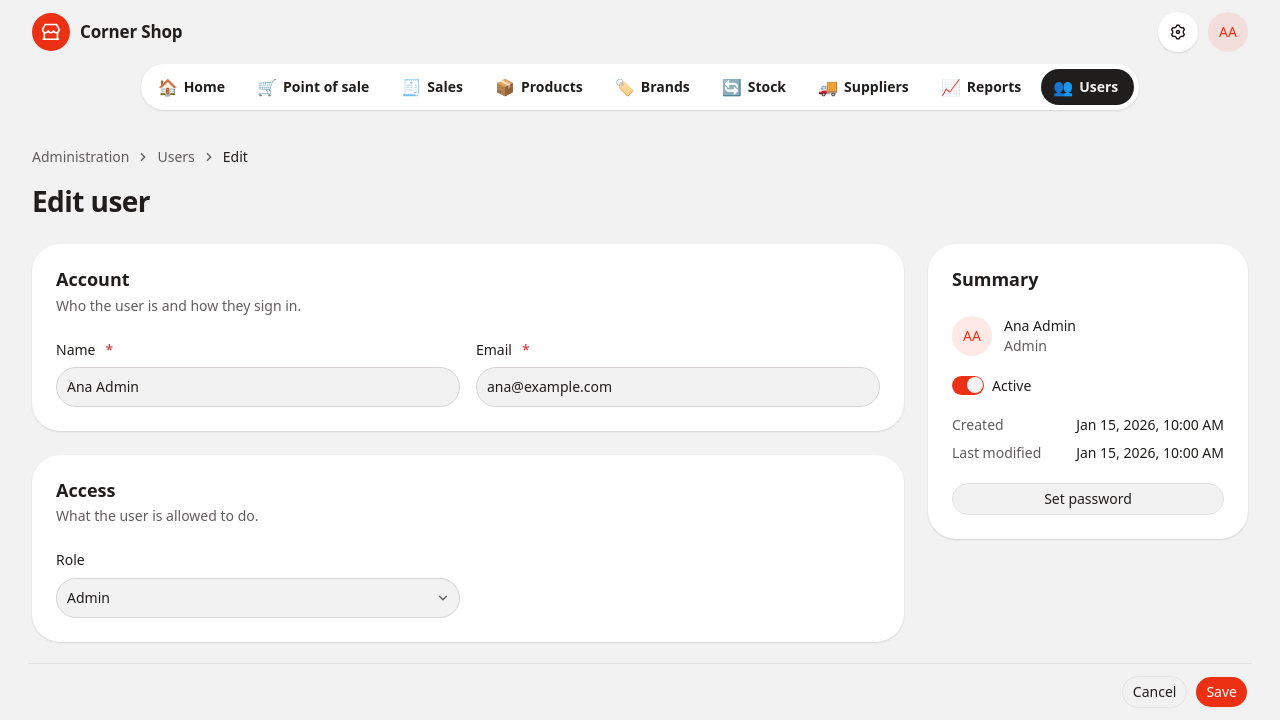
Test: UserFormPage › sets a new password from the dialog
Expected: the field labelled "Name" holds "Ana Admin", top-left (56, 367), bottom-right (460, 407)
Click the button "Set password": point(1088, 499) top-left (952, 483), bottom-right (1224, 515)
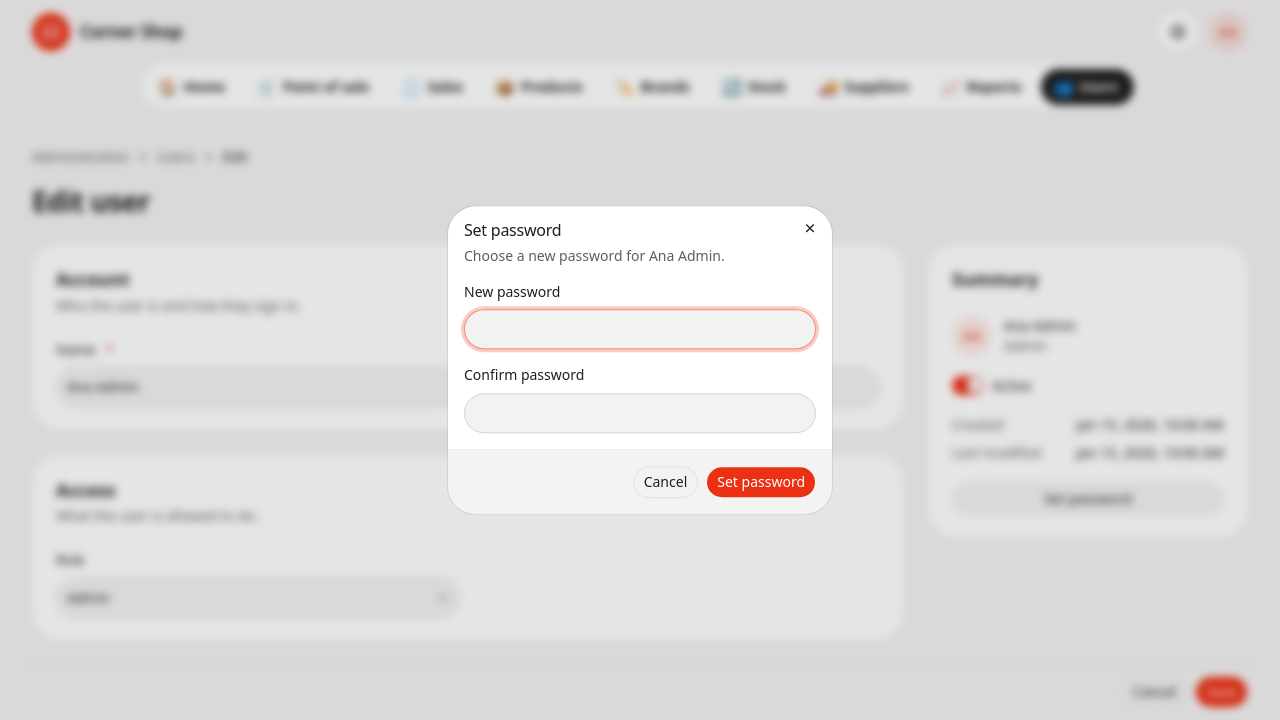
In the password field labelled "New password": point(640, 330) top-left (464, 310), bottom-right (816, 350), type "brand-new-1"
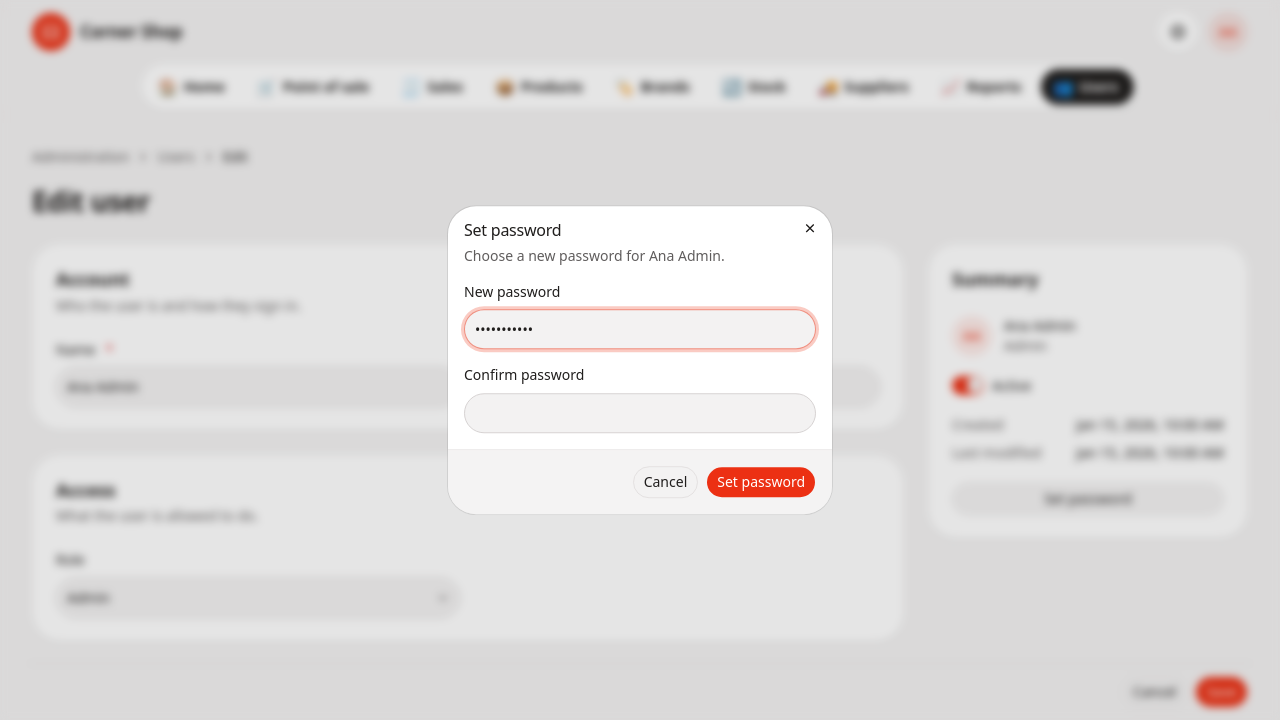
In the password field labelled "Confirm password": point(640, 413) top-left (464, 393), bottom-right (816, 433), type "brand-new-1"
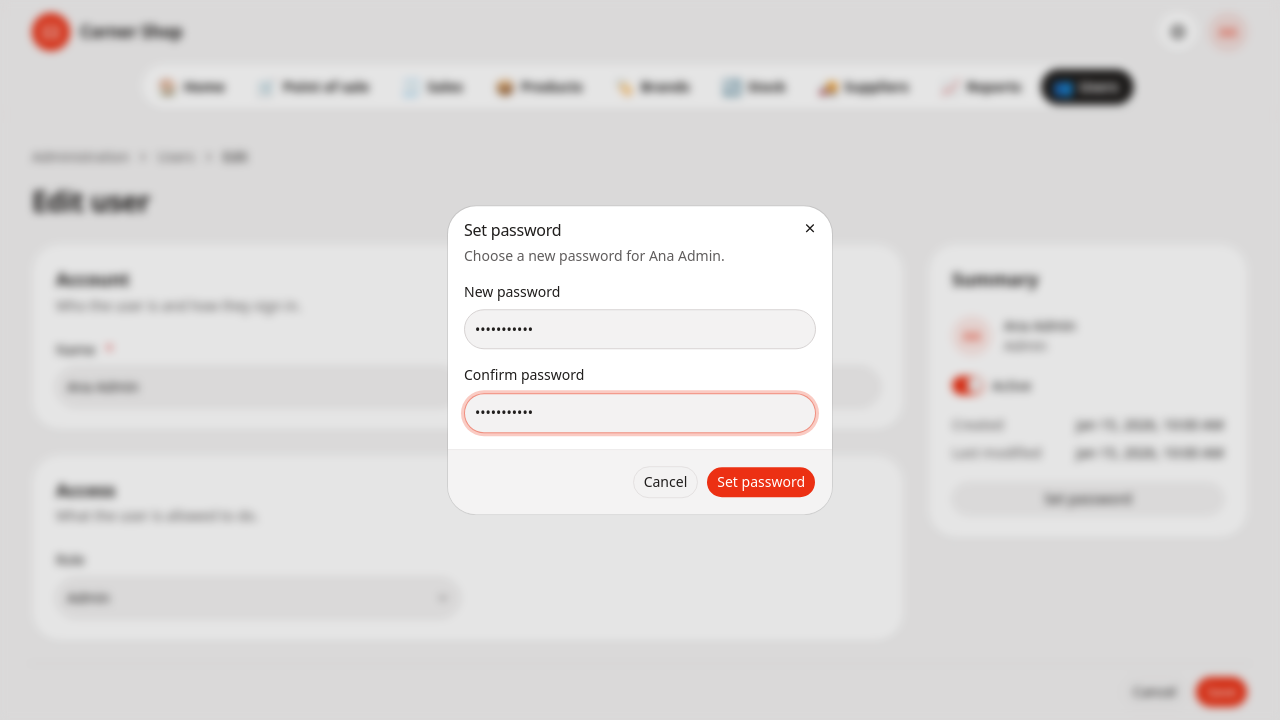
Click the button "Set password": point(761, 482) top-left (706, 466), bottom-right (816, 498)
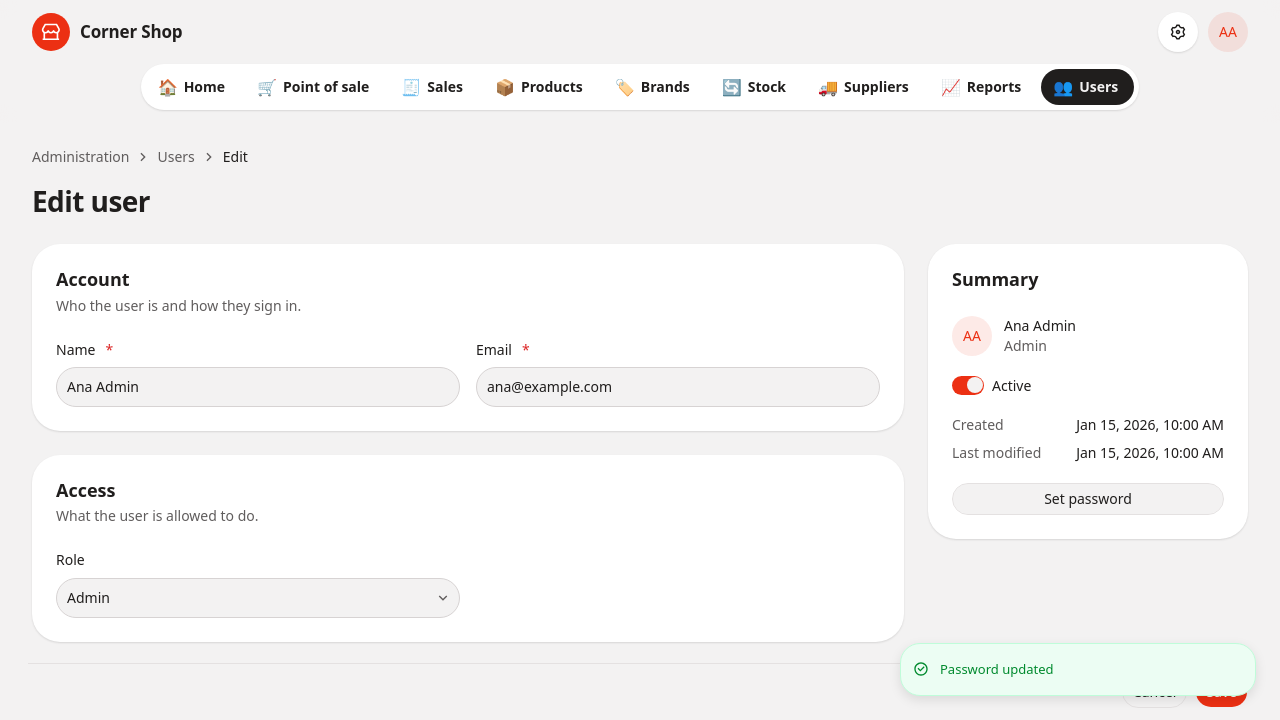
Expected: the text "Password updated" is shown, top-left (940, 660), bottom-right (1054, 679)
Expected: the dialog is gone
